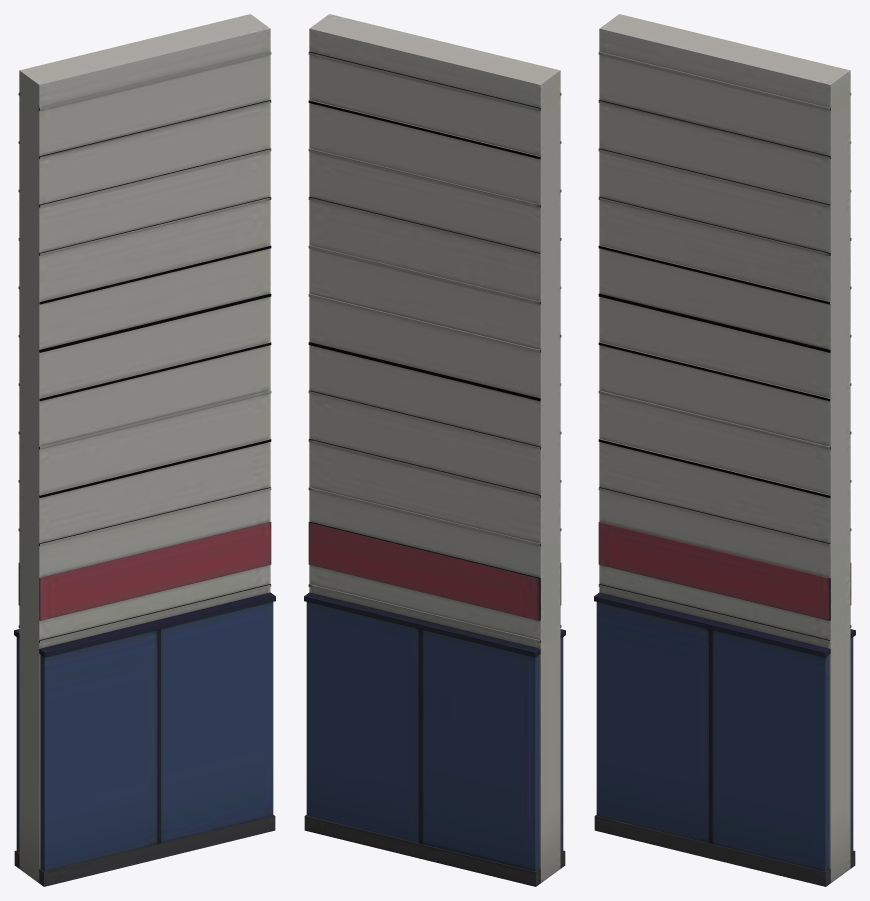
File: gym_wall_module.glb
3 renders of one model, left to right at view 1: azimuth 30°, elevation 25°; view 2: azimuth 150°, elevation 25°; view 3: azimuth 330°, elevation 25°, orthographic.
Visible parts, largest first — view 1: GymWallModule; view 2: GymWallModule; view 3: GymWallModule.
Boxes of the visible parts, x1=… form: GymWallModule: x1=14, y1=14, x2=275, y2=886; GymWallModule: x1=304, y1=14, x2=565, y2=886; GymWallModule: x1=594, y1=14, x2=855, y2=886.
Size of the model in its own units: 2 by 6.6 by 0.46.
4 materials, 4 textured.
